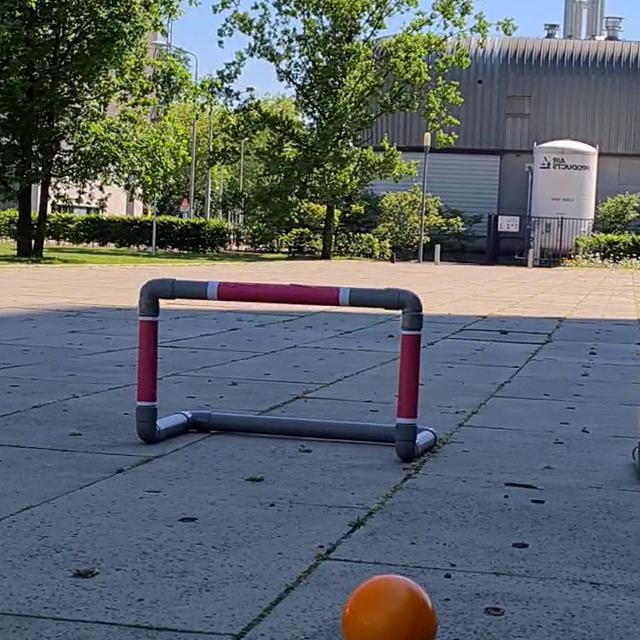ball: (340, 573, 441, 640)
